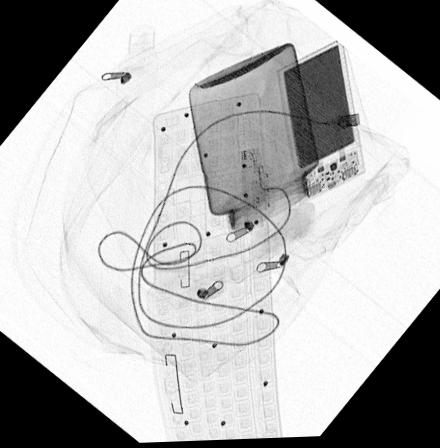Powerbank: (274, 43, 365, 206)
